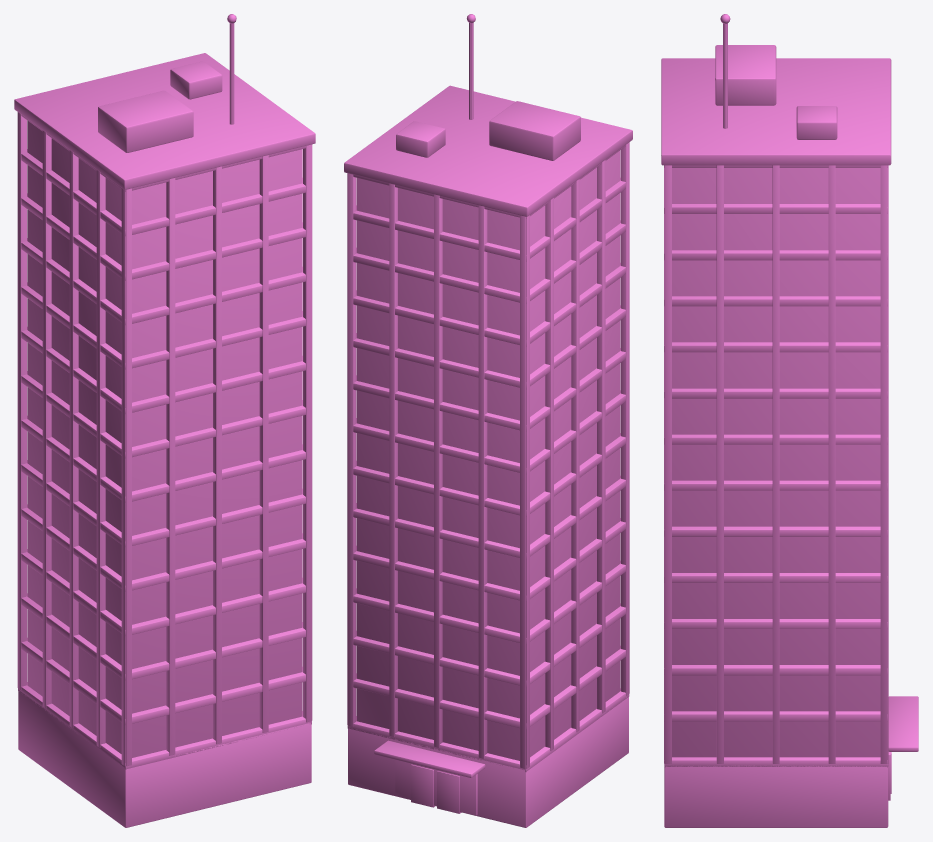
The model's file is Downtown_OfficeTall.fbx.
3 views of the same model, side by side, from view 1: azimuth 30°, elevation 25°; view 2: azimuth 150°, elevation 25°; view 3: azimuth 270°, elevation 25° (orthographic). The views are drawn at different scales.
Visible parts, largest first — view 1: Body, Paint; view 2: Body, Paint; view 3: Body, Paint.
Boxes of the visible parts, x1,y1,x2,y2 form: Body: [14, 14, 315, 757]; Paint: [17, 112, 312, 827]; Body: [344, 14, 632, 815]; Paint: [347, 142, 629, 827]; Body: [661, 14, 918, 800]; Paint: [664, 165, 888, 827].
Bounding box in the file's own units: 22.6 × 85.5 × 25.3.
1 material, 1 textured.
